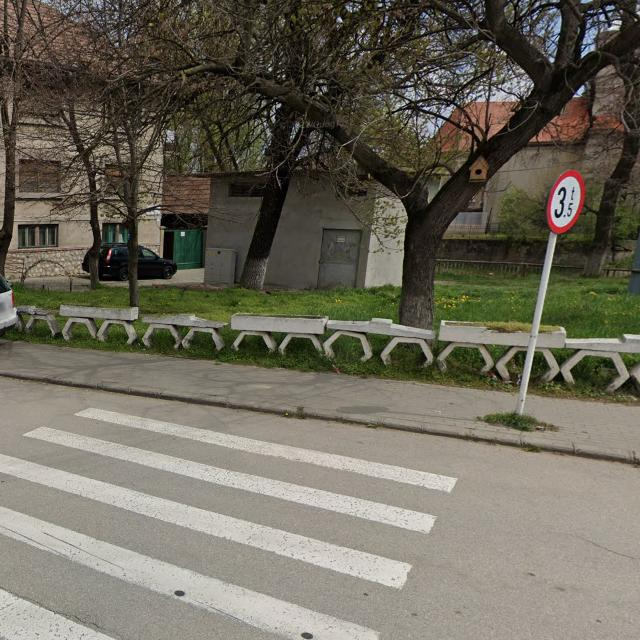forb_weight_over_3.5t: (546, 169, 586, 233)
